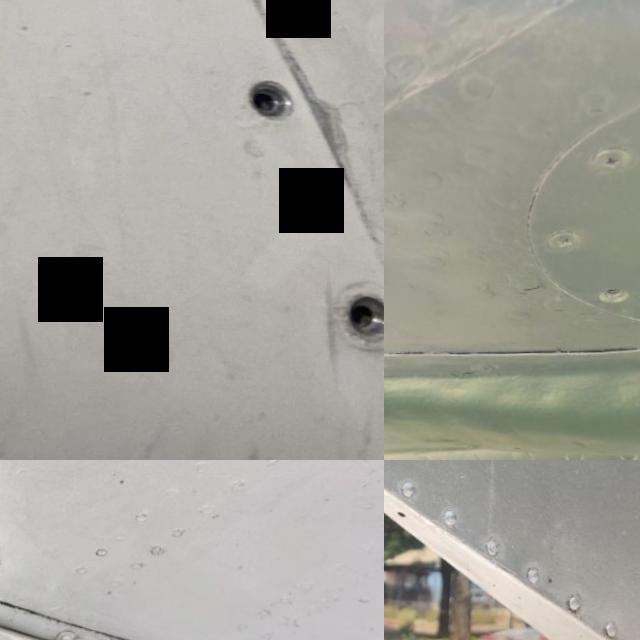Dent: (0, 460, 57, 587), (384, 178, 421, 294)
Missing_Fastener: (583, 259, 640, 330), (250, 78, 302, 130), (341, 295, 384, 341)
